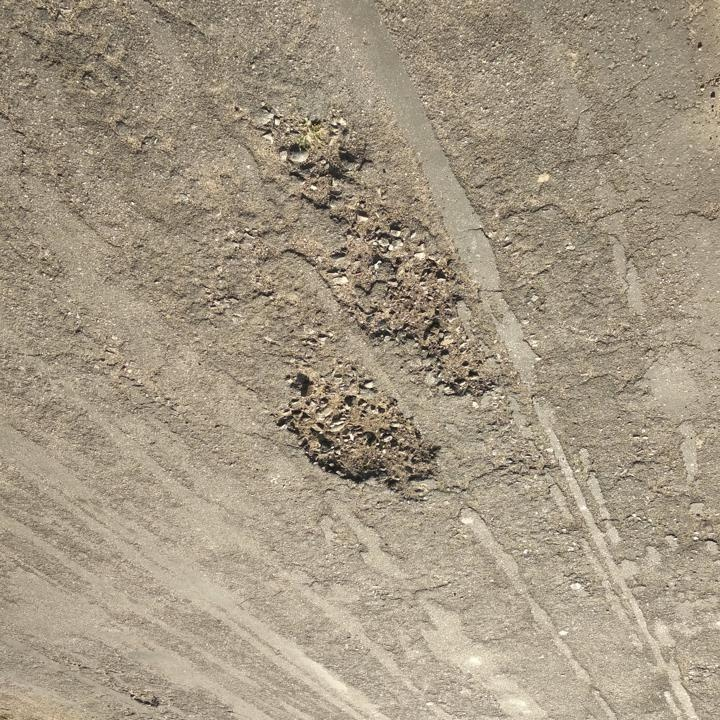pothole: (262, 111, 501, 398), (275, 362, 443, 505)
